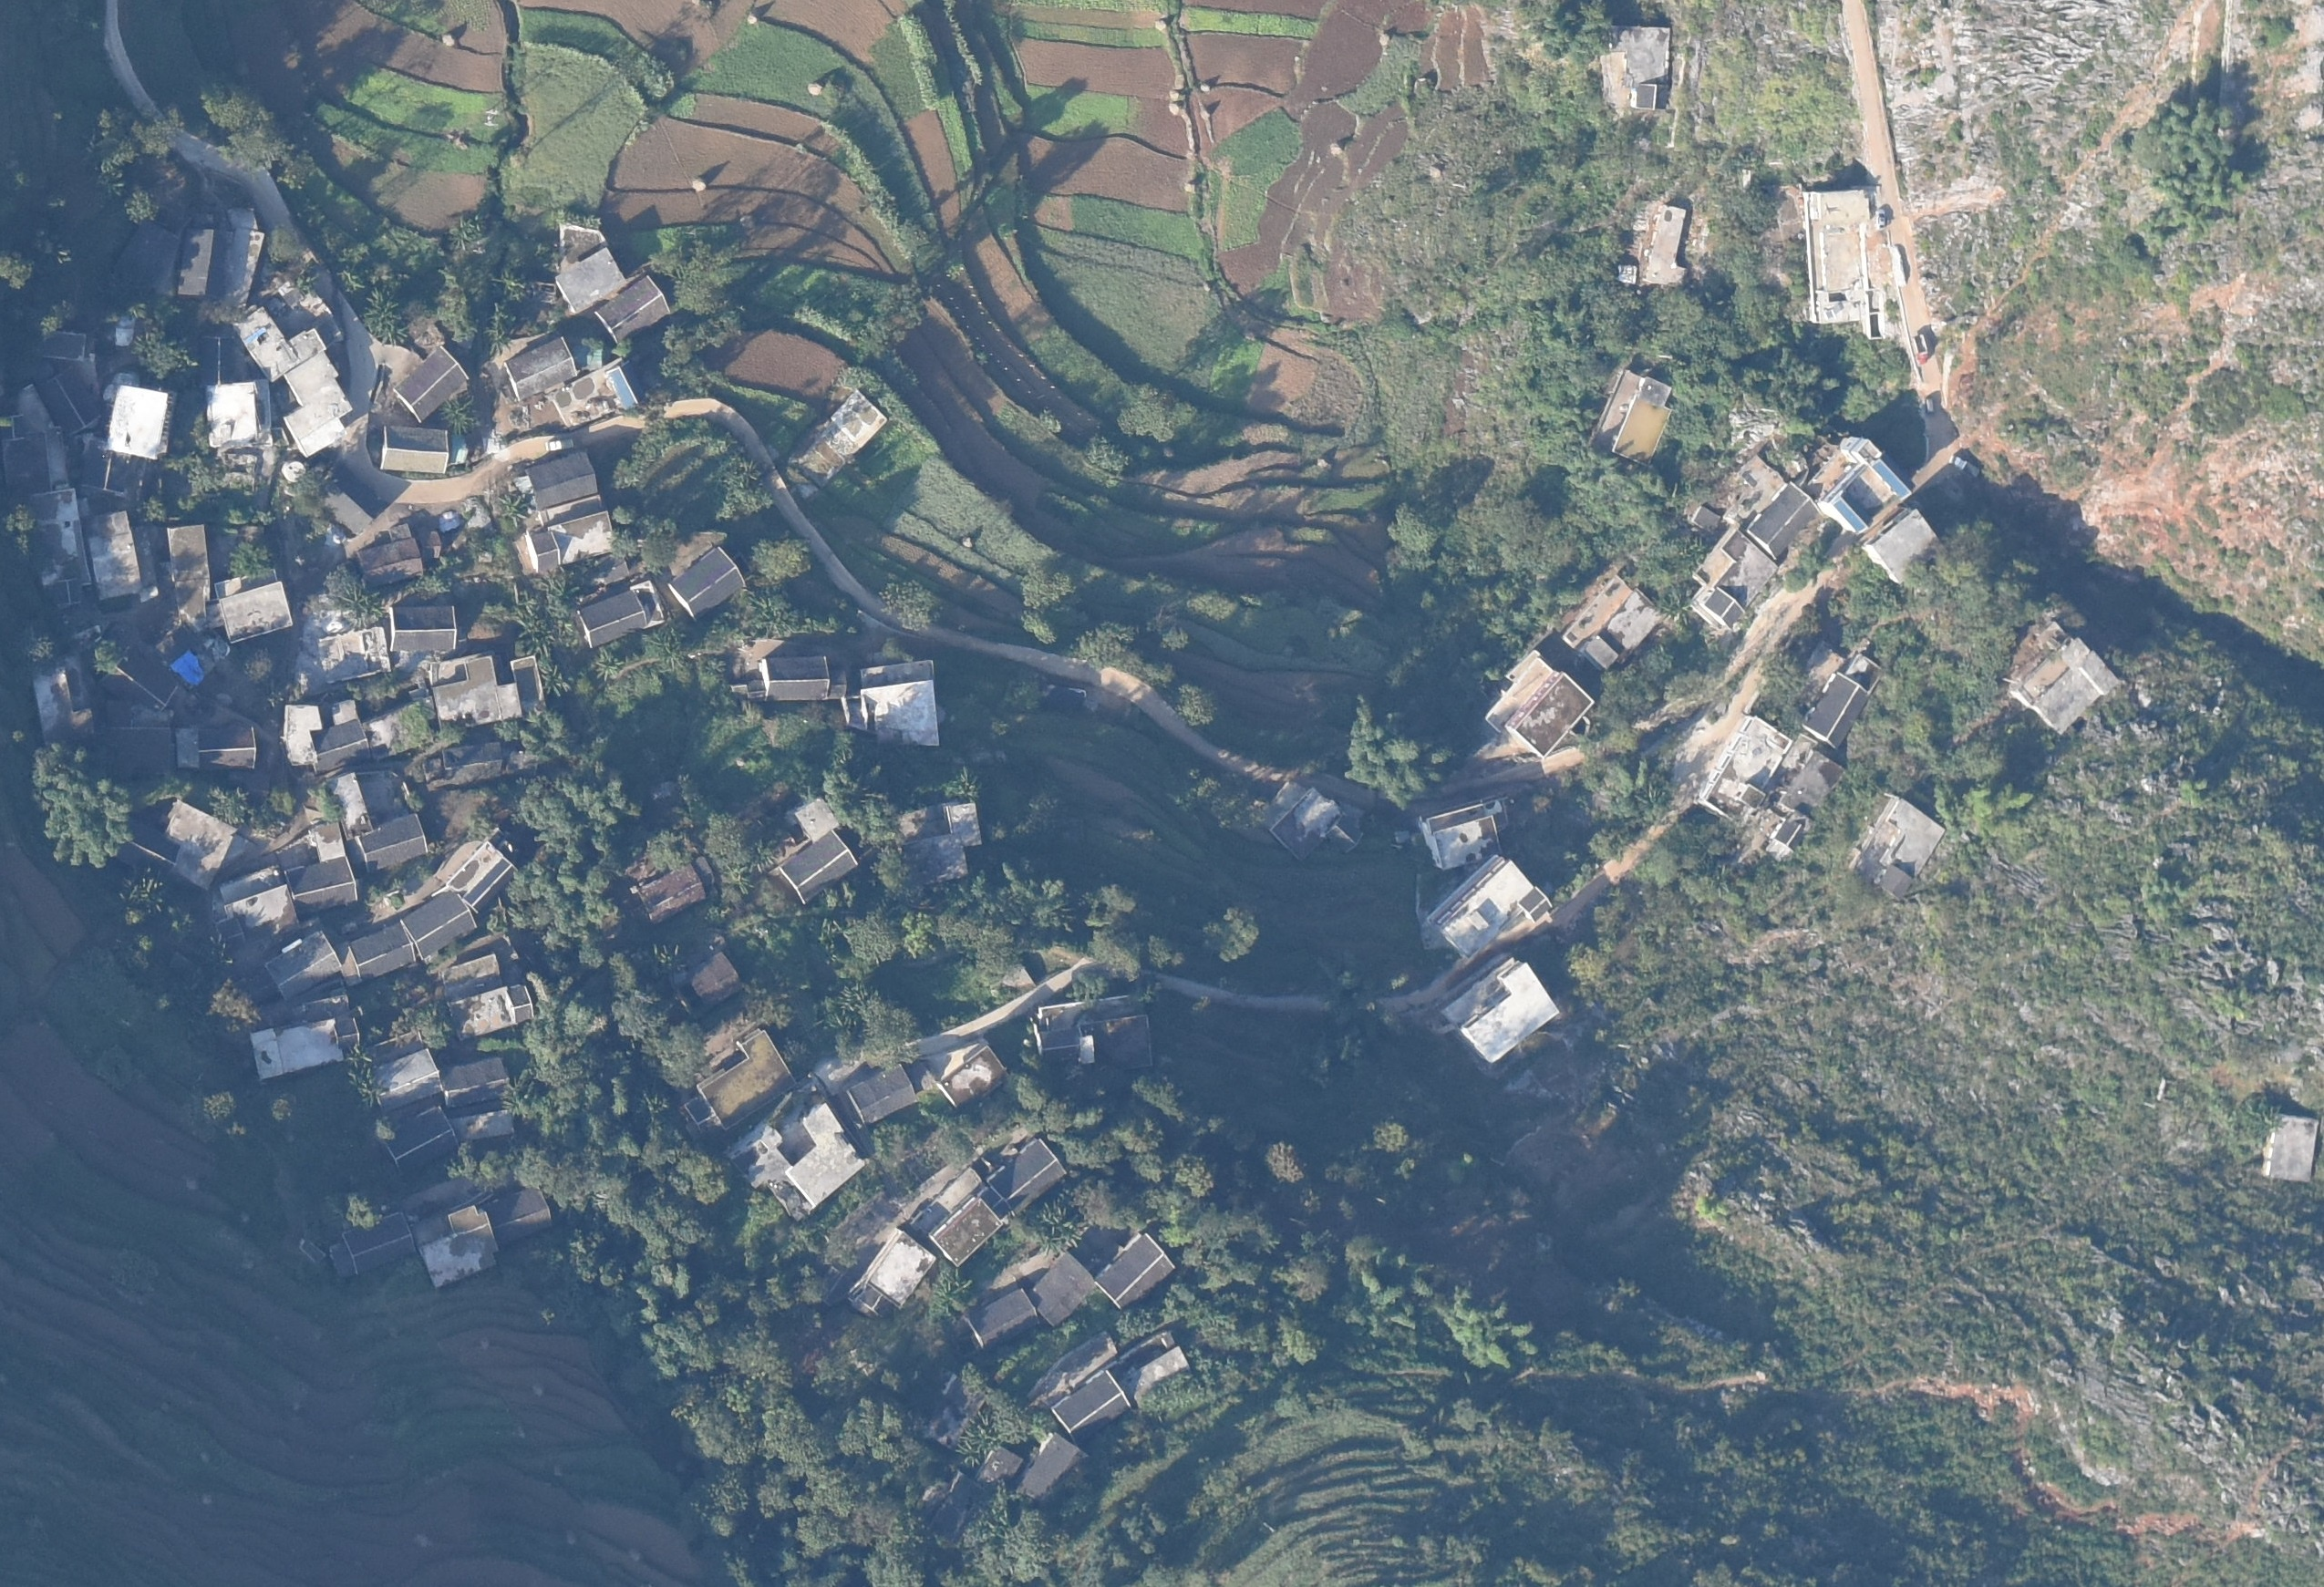building: (726, 1105, 862, 1221), (1420, 853, 1554, 953), (690, 1028, 800, 1140), (1440, 961, 1559, 1062), (1482, 651, 1592, 758), (26, 441, 95, 609), (232, 278, 345, 377), (2011, 632, 2118, 734), (1702, 715, 1794, 827), (1788, 645, 1885, 748), (1030, 996, 1153, 1077), (1811, 439, 1913, 534), (1802, 189, 1872, 328), (1850, 794, 1942, 899), (789, 386, 880, 492), (333, 771, 432, 865), (1727, 456, 1820, 556), (1563, 576, 1664, 668), (120, 808, 231, 891), (779, 799, 858, 902), (1261, 784, 1366, 862), (927, 1171, 1013, 1267), (1692, 534, 1776, 630), (1591, 370, 1677, 463), (903, 798, 987, 889), (180, 212, 262, 305), (429, 658, 542, 726), (439, 959, 535, 1036), (1771, 748, 1841, 853), (848, 1229, 934, 1314), (1598, 23, 1674, 119), (413, 1204, 500, 1287), (247, 1015, 360, 1077), (205, 381, 277, 479), (281, 360, 354, 454), (82, 511, 154, 604), (286, 824, 361, 912), (550, 355, 641, 427), (524, 500, 618, 569), (858, 668, 942, 746), (1099, 1230, 1175, 1314), (1048, 1368, 1134, 1441), (1421, 800, 1514, 867), (28, 657, 98, 744), (1620, 200, 1689, 285), (988, 1141, 1068, 1216), (1124, 1345, 1206, 1417), (1867, 506, 1941, 585), (286, 702, 369, 768), (396, 344, 465, 422), (673, 543, 746, 616), (1030, 1252, 1101, 1326), (550, 243, 627, 312), (1019, 1434, 1092, 1506), (212, 873, 294, 937), (217, 572, 296, 638), (328, 1215, 413, 1276), (364, 1050, 446, 1113), (164, 523, 212, 630), (266, 933, 346, 996), (384, 1108, 460, 1174), (961, 1291, 1040, 1354), (451, 837, 518, 912), (12, 371, 92, 433), (734, 658, 847, 702), (595, 278, 666, 345), (500, 335, 573, 400), (107, 381, 170, 456), (579, 586, 665, 642), (848, 1064, 916, 1133), (398, 891, 477, 951), (631, 862, 707, 922), (175, 721, 258, 774), (939, 1045, 1005, 1108), (670, 956, 742, 1014), (322, 624, 397, 679), (946, 1442, 1019, 1498), (345, 922, 416, 977), (440, 1058, 515, 1108), (357, 536, 429, 587), (388, 605, 464, 653), (105, 657, 173, 708), (380, 424, 449, 473), (529, 459, 599, 507), (491, 1191, 555, 1242), (2265, 1117, 2313, 1185), (100, 708, 170, 755), (322, 486, 375, 536), (452, 1111, 519, 1143), (90, 456, 132, 500), (41, 329, 87, 360), (1691, 504, 1723, 533), (116, 314, 135, 347)
prefabricated-house: (165, 648, 207, 687)
vehicle: (1948, 453, 1984, 476), (1910, 331, 1928, 368), (542, 435, 575, 452), (1875, 207, 1889, 232), (1923, 393, 1937, 415)
well: (281, 460, 311, 489)
